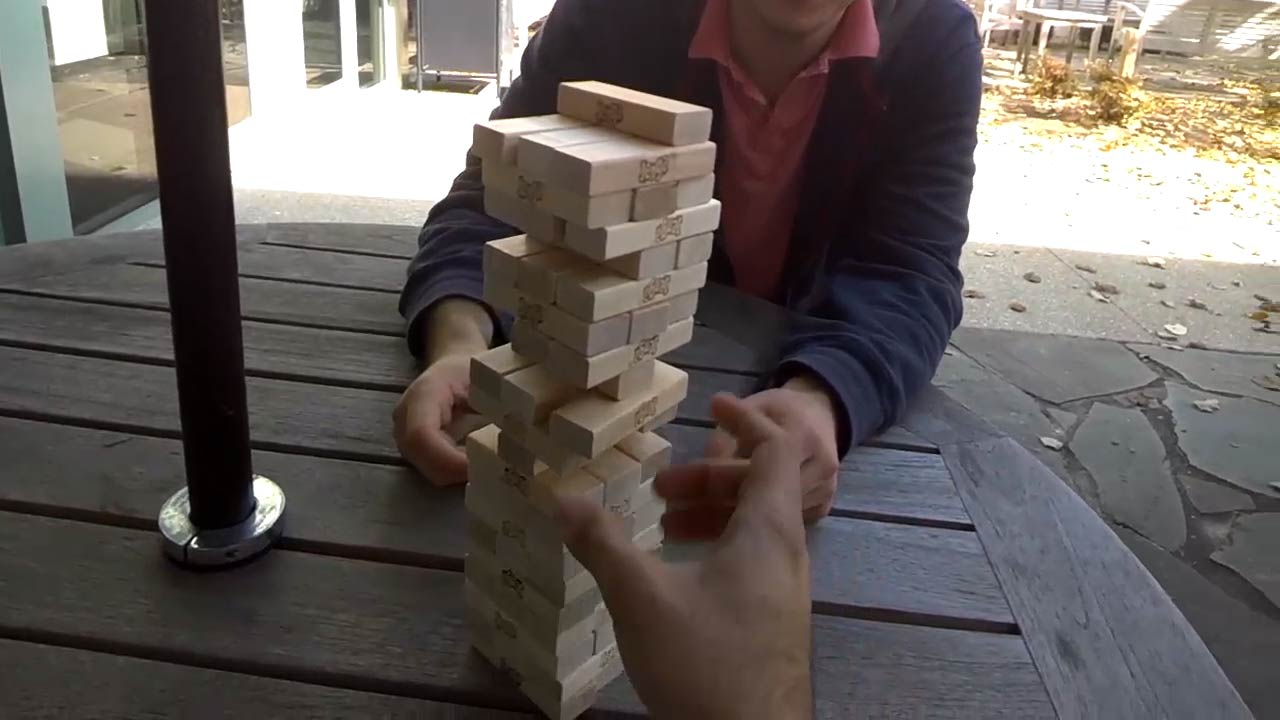hand: (553, 393, 812, 715), (752, 367, 839, 531), (390, 348, 483, 482)
